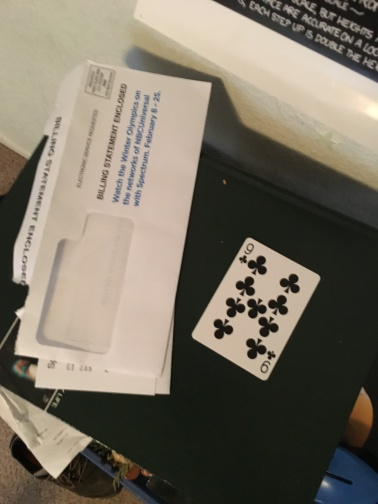nine: (189, 236, 322, 382)
